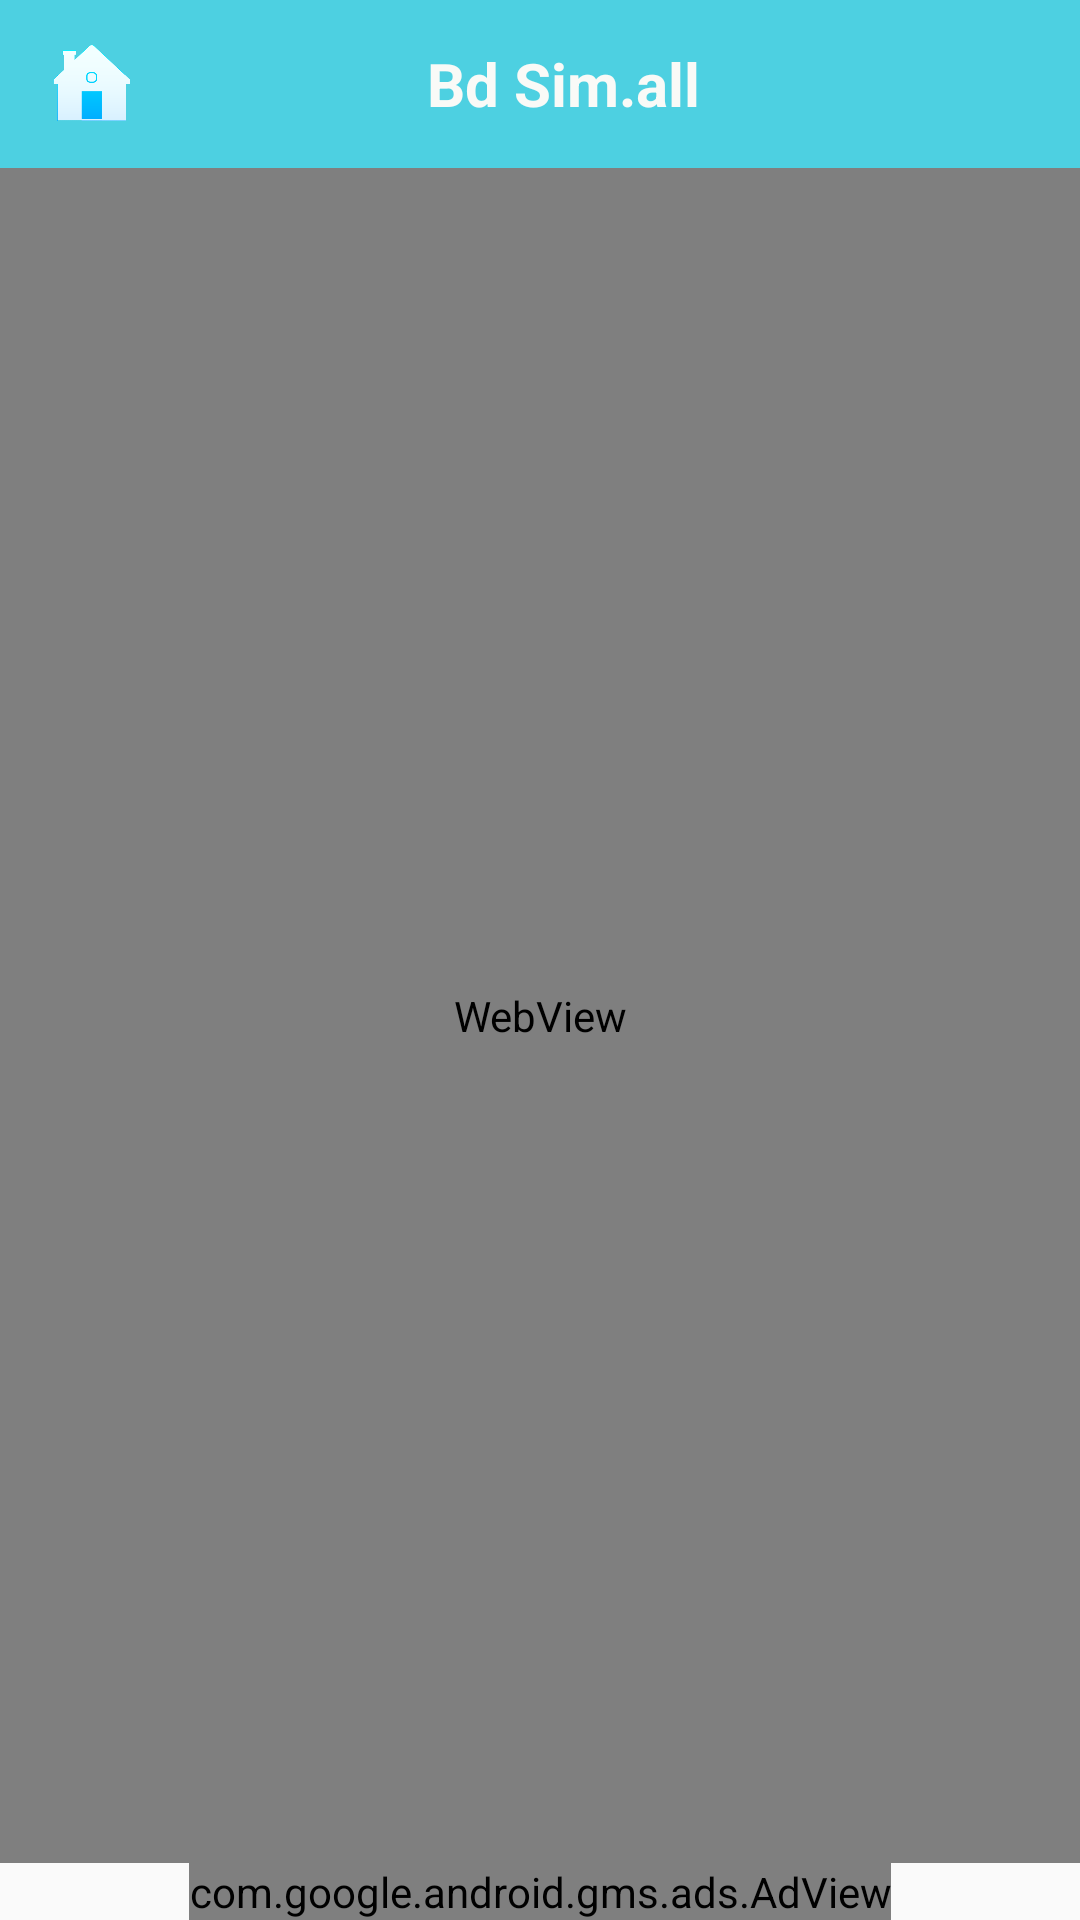

Where to tap for icons on this 1080 x 1920 app screen, as [x,y]:
home: [92,83]
